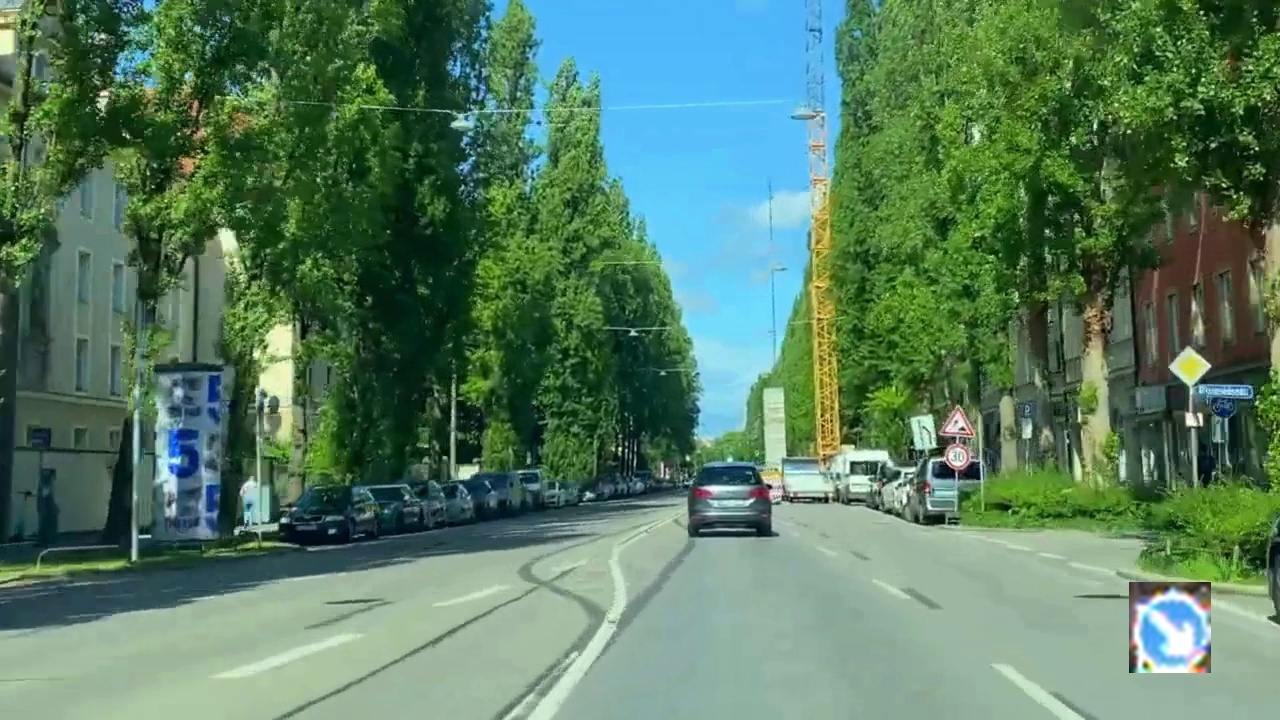Keep right: (1129, 582, 1211, 673)
